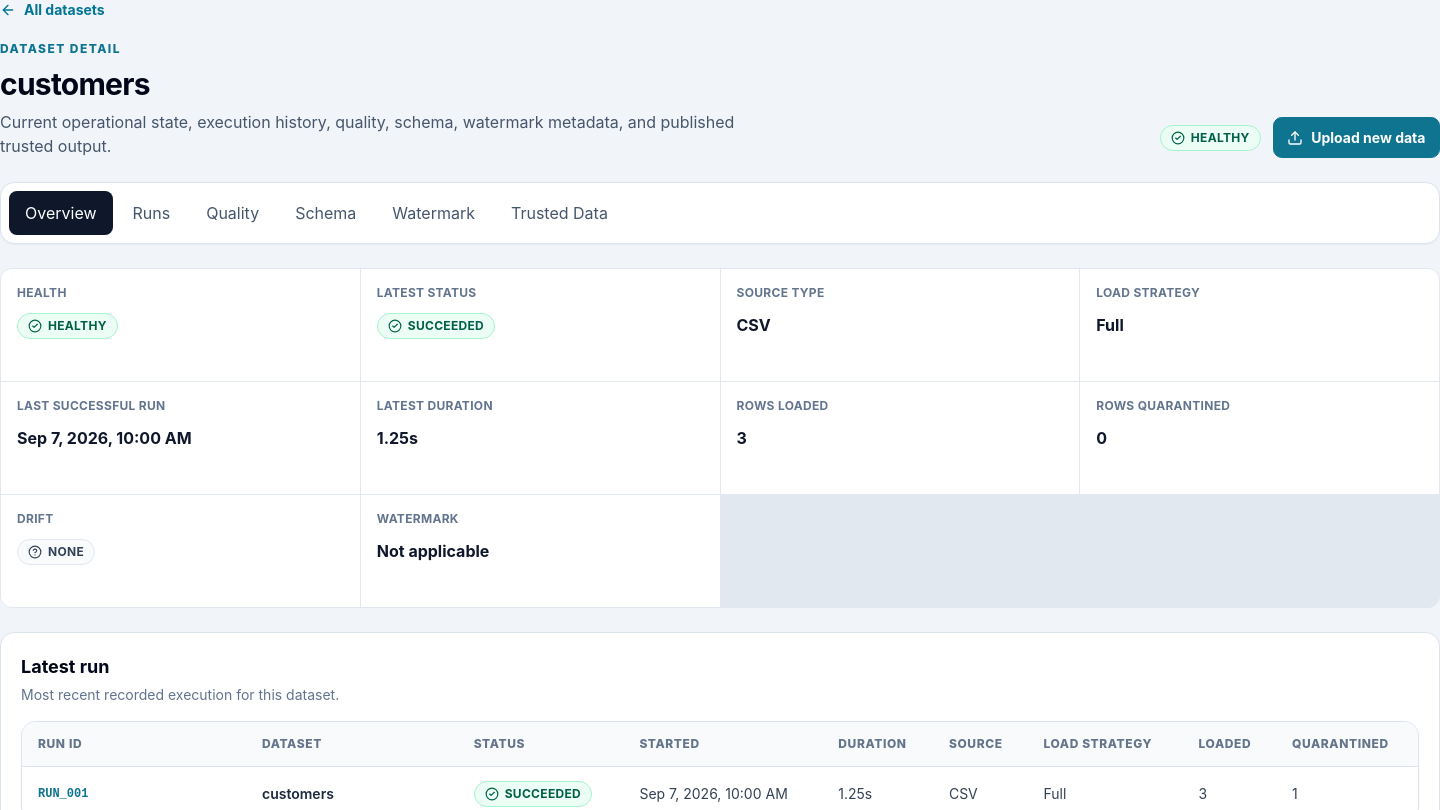
Test: renders the EMPTY trusted-data state
The image size is (1440, 810).
Click the tab "Trusted Data" at (559, 213), box [495,191,624,235]
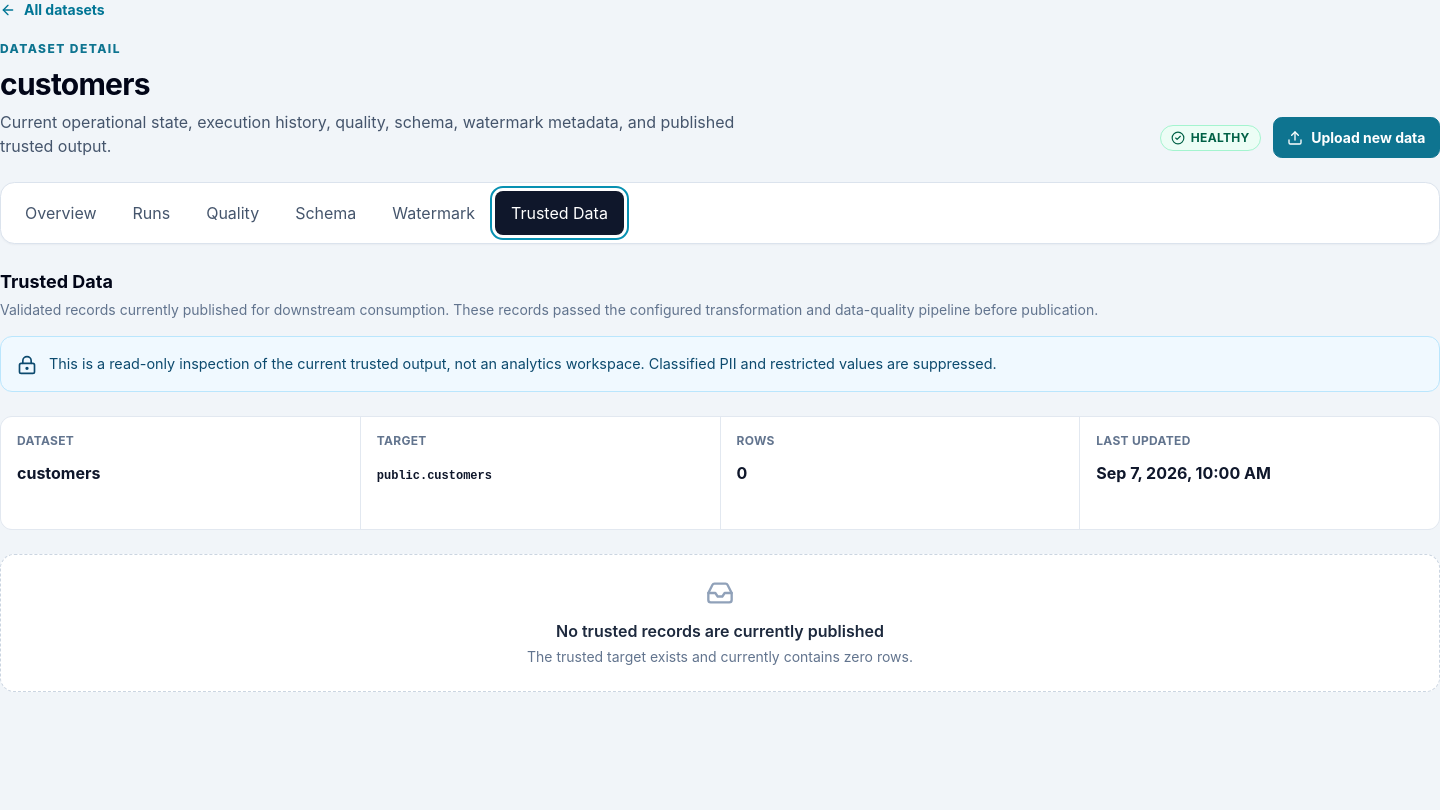
Now the text "No trusted records are currently published" is shown, box [556,621,884,641]
